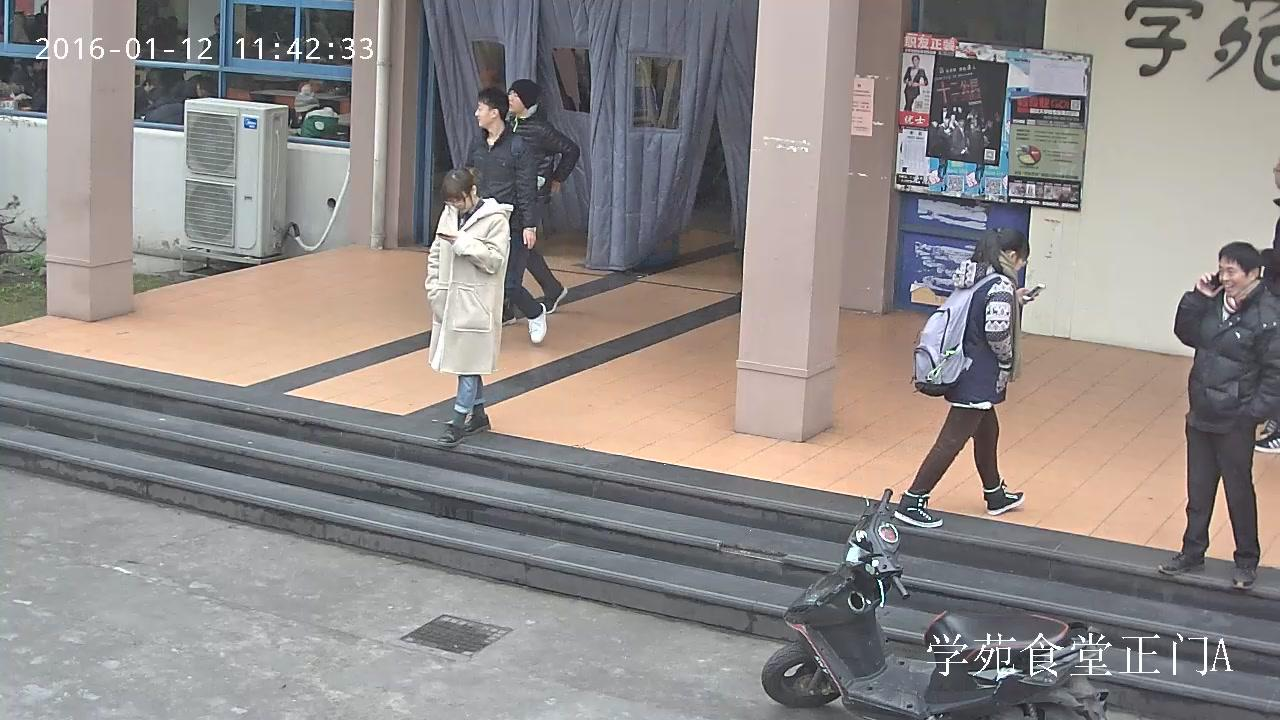person: (893, 226, 1046, 529), (1157, 240, 1280, 589), (423, 166, 514, 446), (461, 88, 547, 344), (498, 78, 580, 326), (293, 83, 338, 140), (133, 68, 172, 119), (144, 86, 185, 127), (904, 55, 927, 112)
